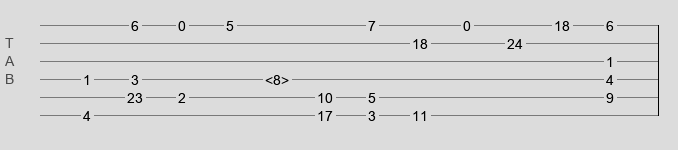0: (178, 18, 186, 28), (463, 18, 471, 28)
1: (83, 72, 91, 82), (606, 54, 614, 64)
10: (317, 90, 333, 100)
11: (412, 108, 428, 118)
17: (317, 108, 333, 118)
18: (412, 36, 428, 46), (554, 18, 570, 28)
2: (178, 90, 186, 100)
23: (127, 90, 143, 100)
24: (507, 36, 523, 46)
3: (131, 72, 139, 82), (368, 108, 376, 118)
4: (83, 108, 91, 118), (606, 72, 614, 82)
5: (226, 18, 234, 28), (368, 90, 376, 100)
6: (131, 18, 139, 28), (606, 18, 614, 28)
7: (368, 18, 376, 28)
9: (606, 90, 614, 100)
harmonic: (265, 72, 289, 82)
